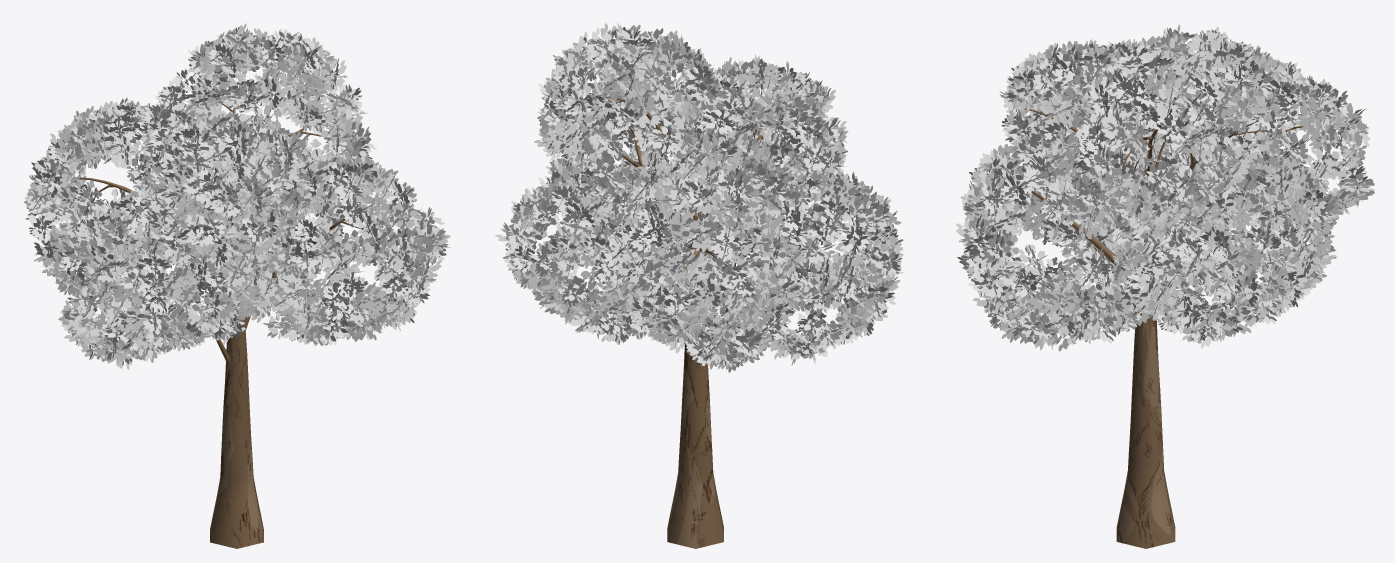
The model's file is Tree01.fbx.
3 views of the same model, side by side, from view 1: azimuth 30°, elevation 25°; view 2: azimuth 150°, elevation 25°; view 3: azimuth 270°, elevation 25° (orthographic). The views are drawn at different scales.
Visible parts, largest first — view 1: Leaves01, Trunk01; view 2: Leaves01, Trunk01; view 3: Leaves01, Trunk01.
Boxes of the visible parts, bbox=[...] form: Leaves01: bbox=[24, 23, 450, 369]; Trunk01: bbox=[75, 67, 376, 548]; Leaves01: bbox=[495, 23, 903, 372]; Trunk01: bbox=[577, 54, 770, 548]; Leaves01: bbox=[956, 23, 1375, 351]; Trunk01: bbox=[1011, 74, 1329, 548].
Size of the model in its own units: 212 by 282 by 210.
